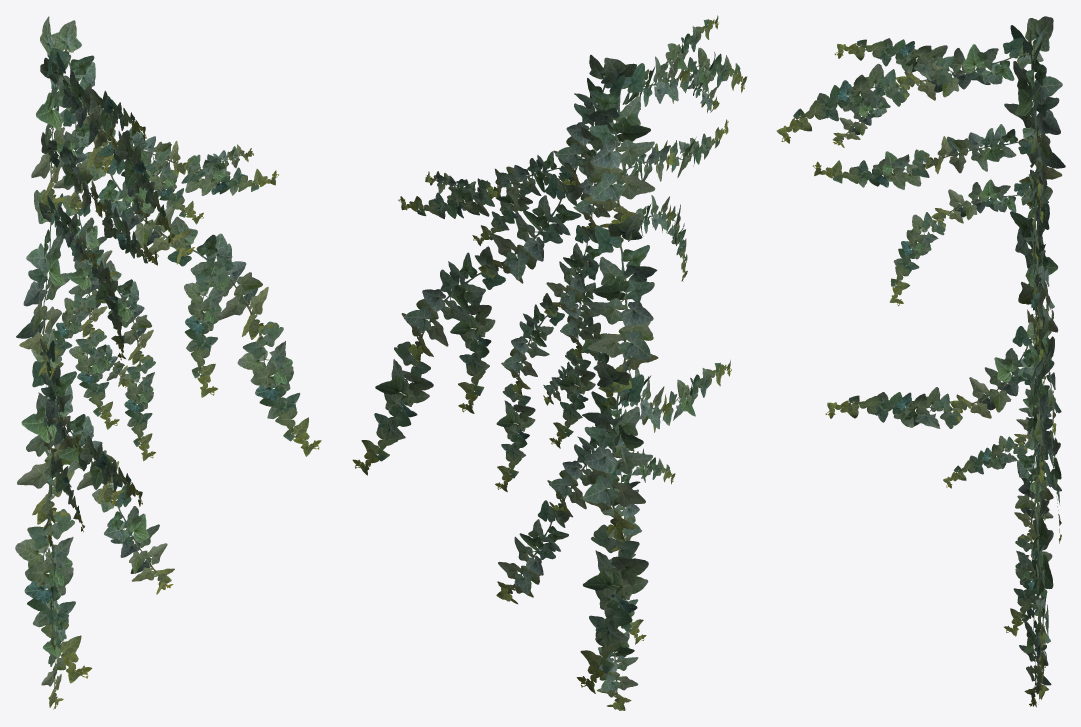
The model's file is sm_Ivy_01_06.fbx.
3 renders of one model, left to right at view 1: azimuth 30°, elevation 25°; view 2: azimuth 150°, elevation 25°; view 3: azimuth 270°, elevation 25°, orthographic. The views are drawn at different scales.
Visible parts, largest first — view 1: sm_Ivy_01_06; view 2: sm_Ivy_01_06; view 3: sm_Ivy_01_06.
Part boxes in pixels (x1=…): sm_Ivy_01_06: x1=15, y1=16, x2=321, y2=709; sm_Ivy_01_06: x1=352, y1=15, x2=747, y2=710; sm_Ivy_01_06: x1=776, y1=16, x2=1065, y2=707.
Bounding box in the file's own units: 94.86 × 75.7 × 200.
